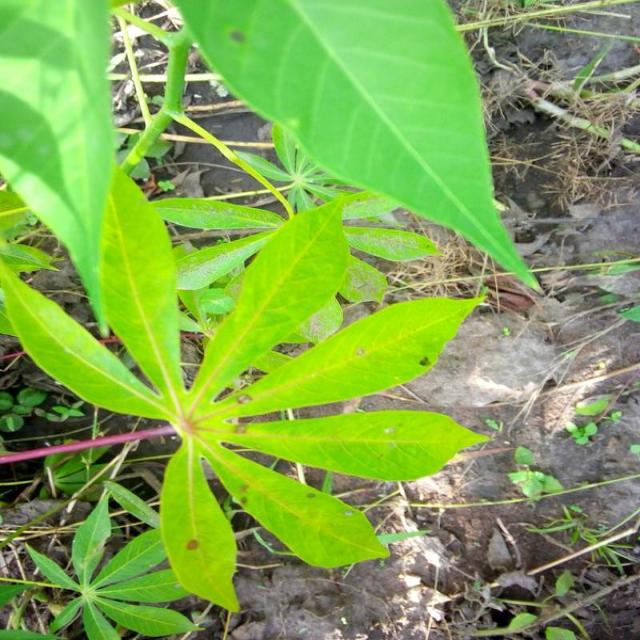cassava leaf: (171, 0, 544, 294), (1, 0, 118, 339)
